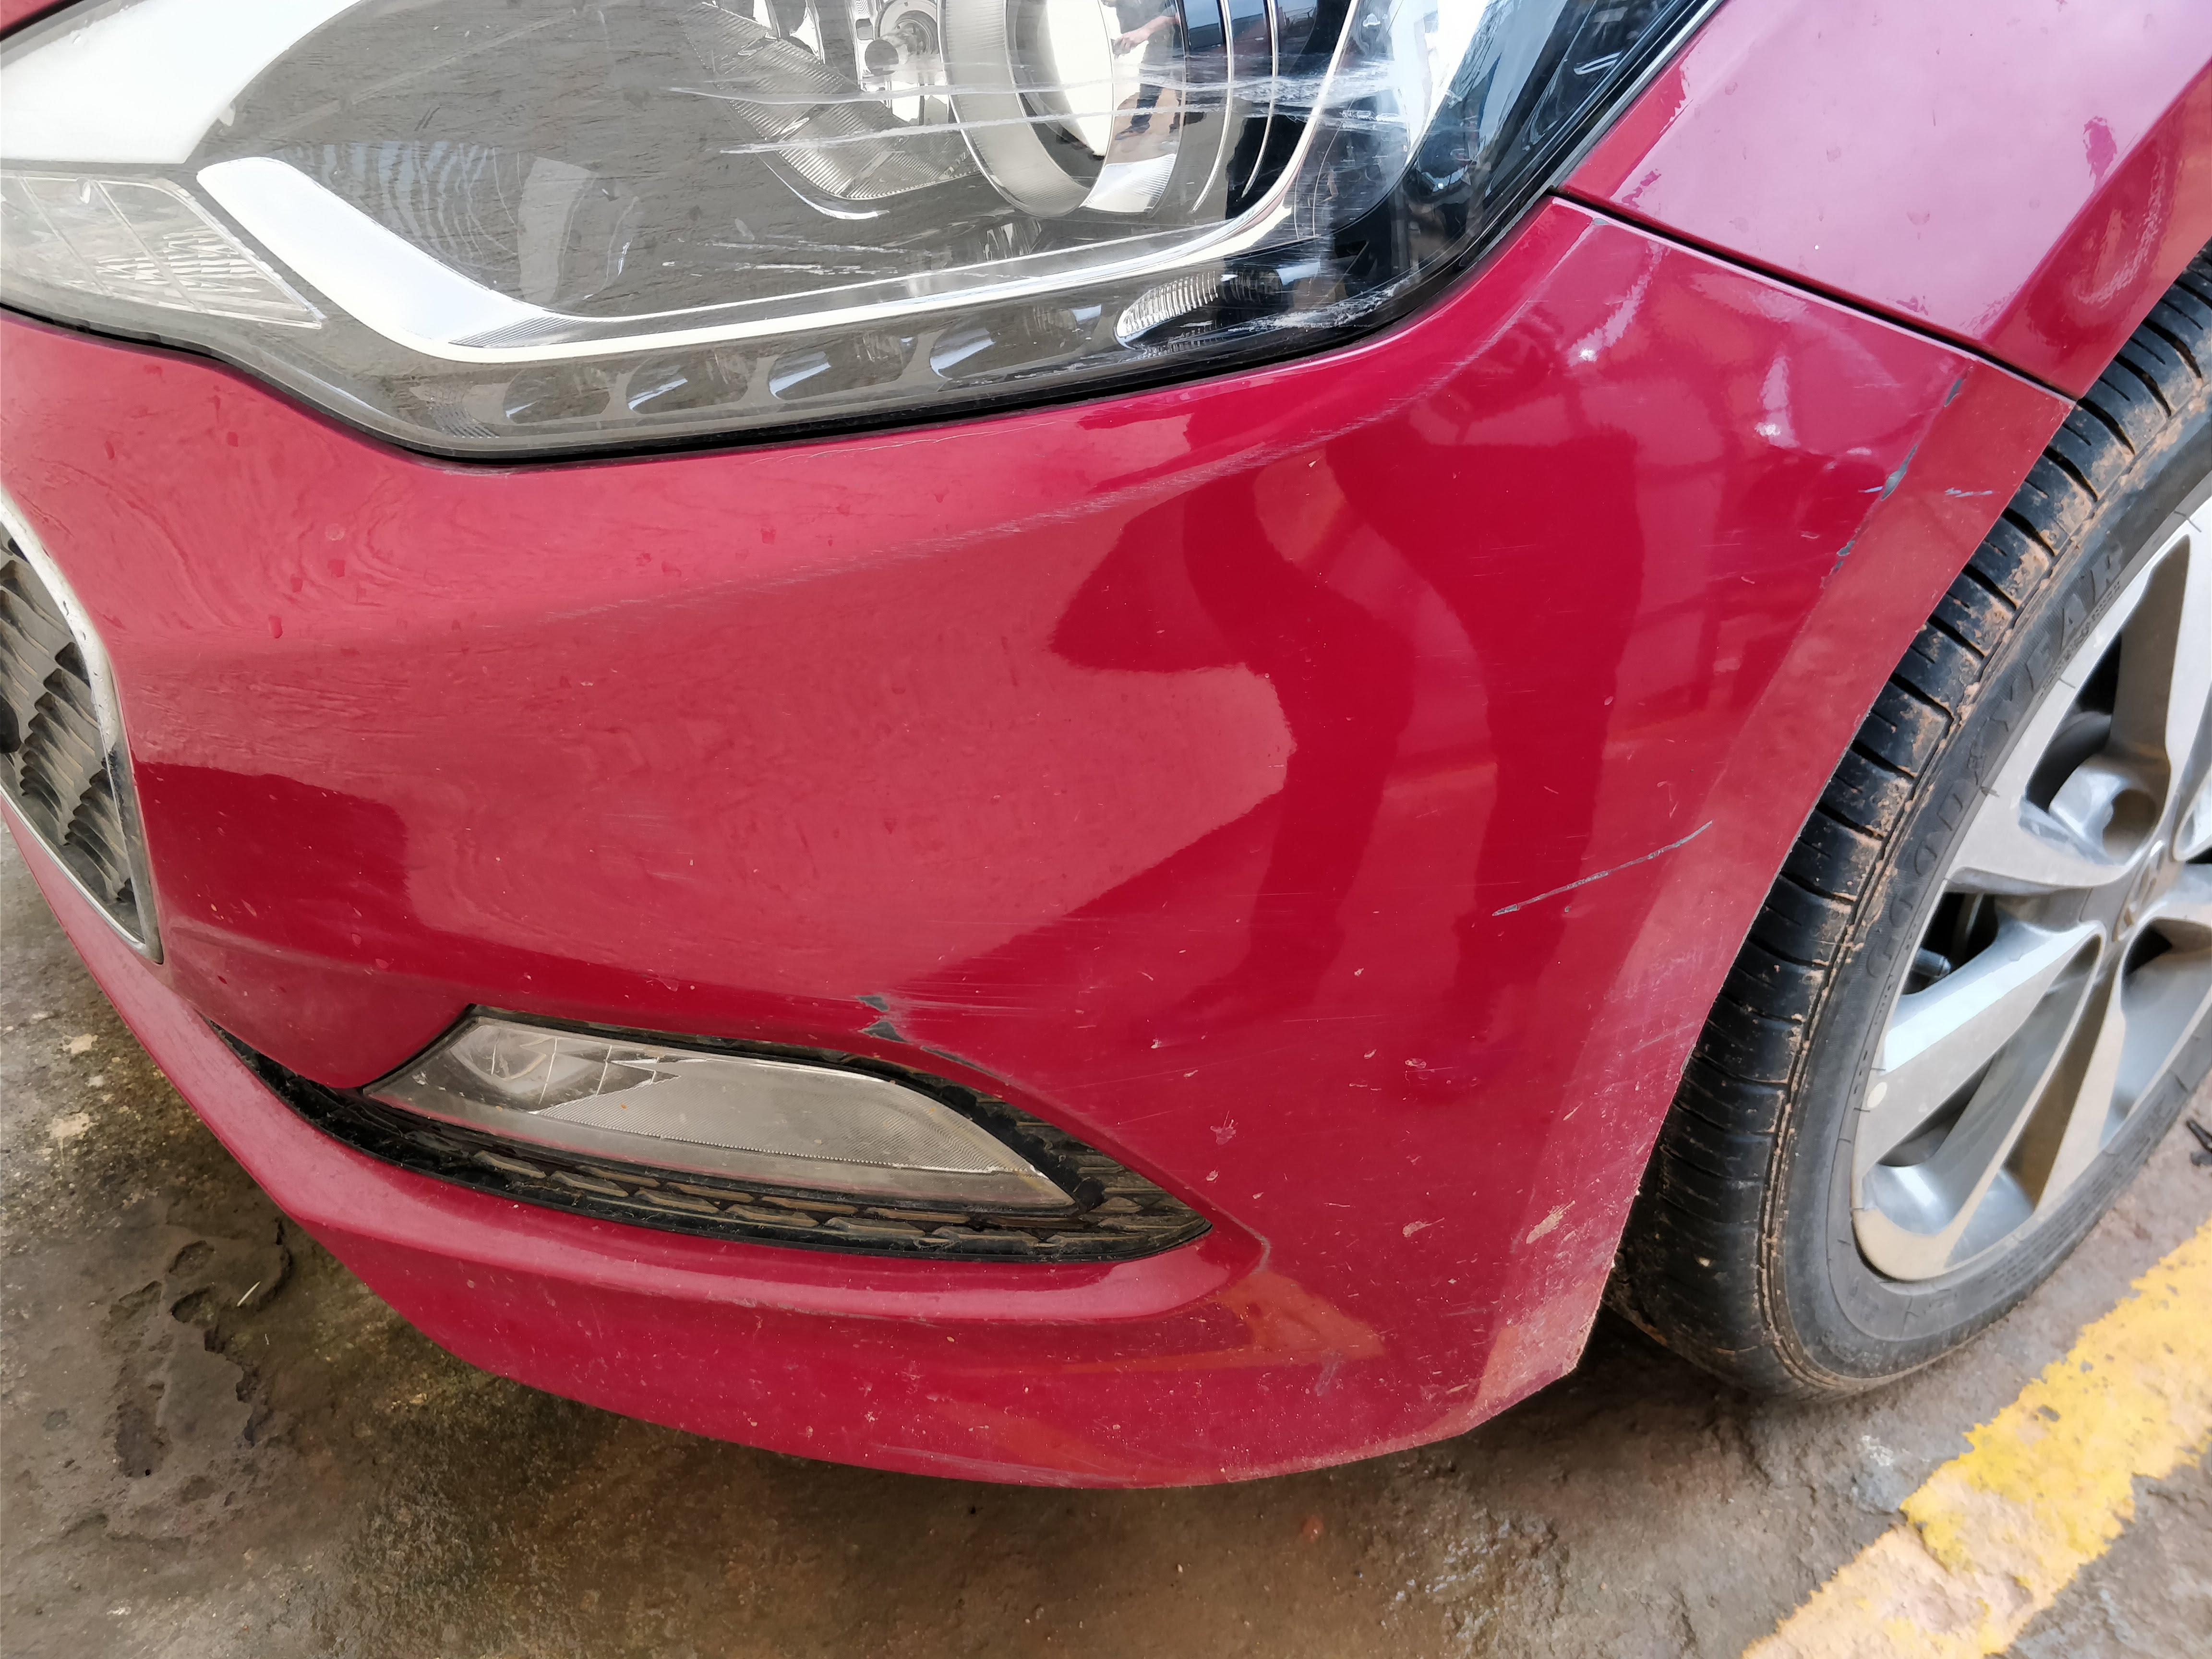front-bumper-dent: (146, 193, 2055, 1466)
